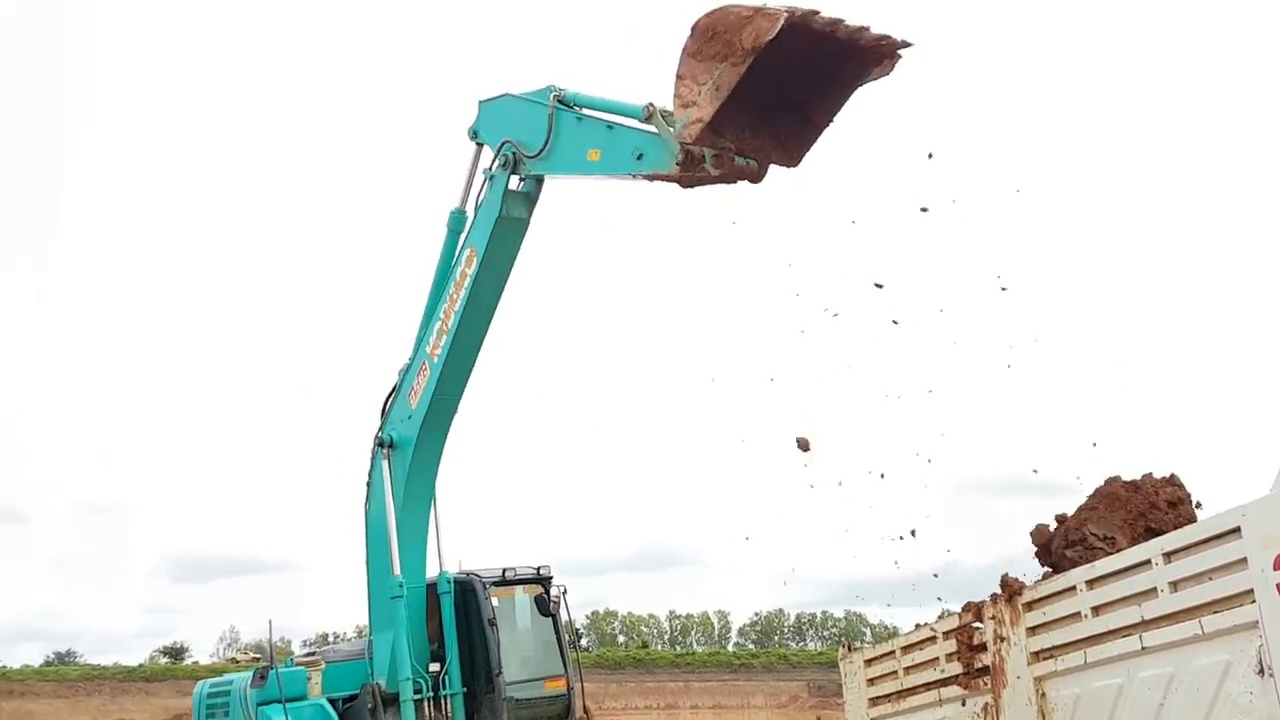excavator: (186, 5, 915, 720)
truck: (801, 454, 1280, 715)
